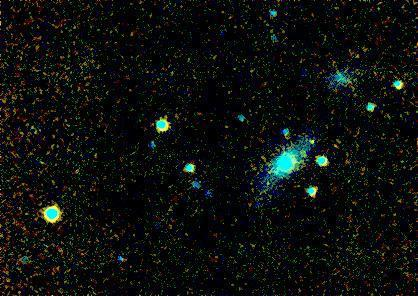star: (296, 131, 326, 161)
